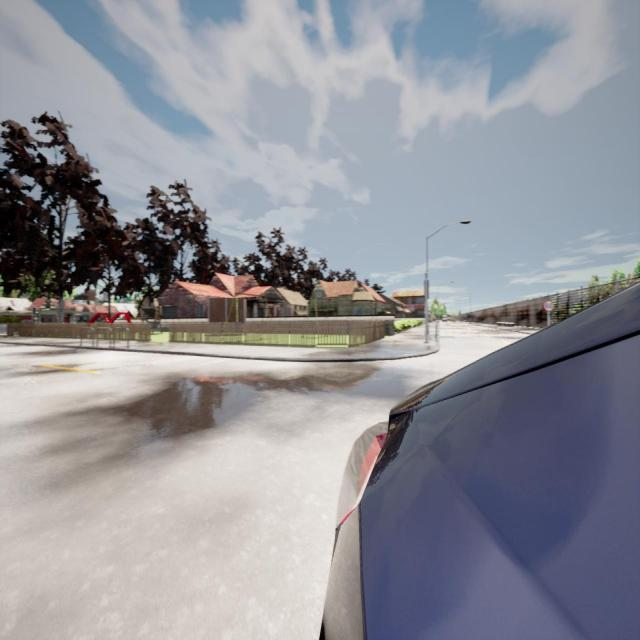Traffic_Signs: (544, 301, 554, 311)
Vehicle: (320, 279, 640, 640), (442, 315, 448, 322)
traffic_light: (424, 280, 429, 299)
